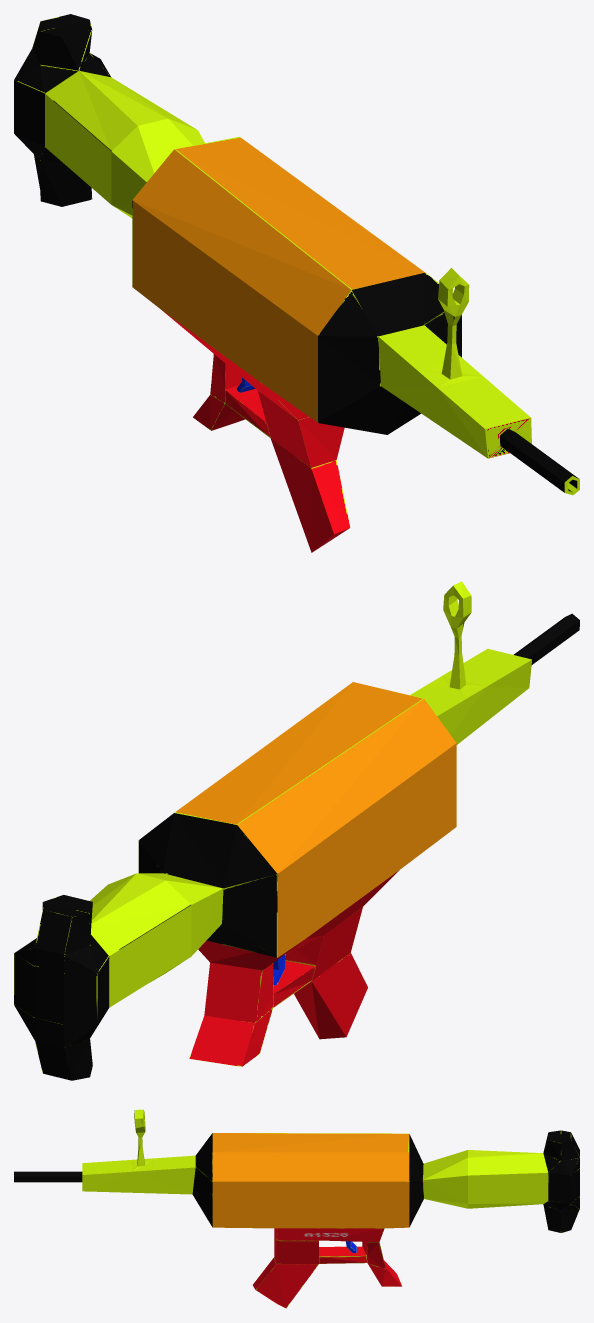
File: Gun1028Tri.obj
The picture shows the model from 3 angles, top to bottom: view 1: azimuth 30°, elevation 25°; view 2: azimuth 150°, elevation 25°; view 3: azimuth 270°, elevation 25°; orthographic projection. The views are drawn at different scales.
Parts seen in each view (by area): view 1: Cube.001_Cube.002; view 2: Cube.001_Cube.002; view 3: Cube.001_Cube.002.
Boxes of the visible parts, x1,y1,x2,y2 form: Cube.001_Cube.002: (14,14,579,552); Cube.001_Cube.002: (14,581,579,1080); Cube.001_Cube.002: (14,1109,579,1308).
Bounding box in the file's own units: 0.298 × 0.738 × 1.91.
Materials: 1 (1 with a texture image).
